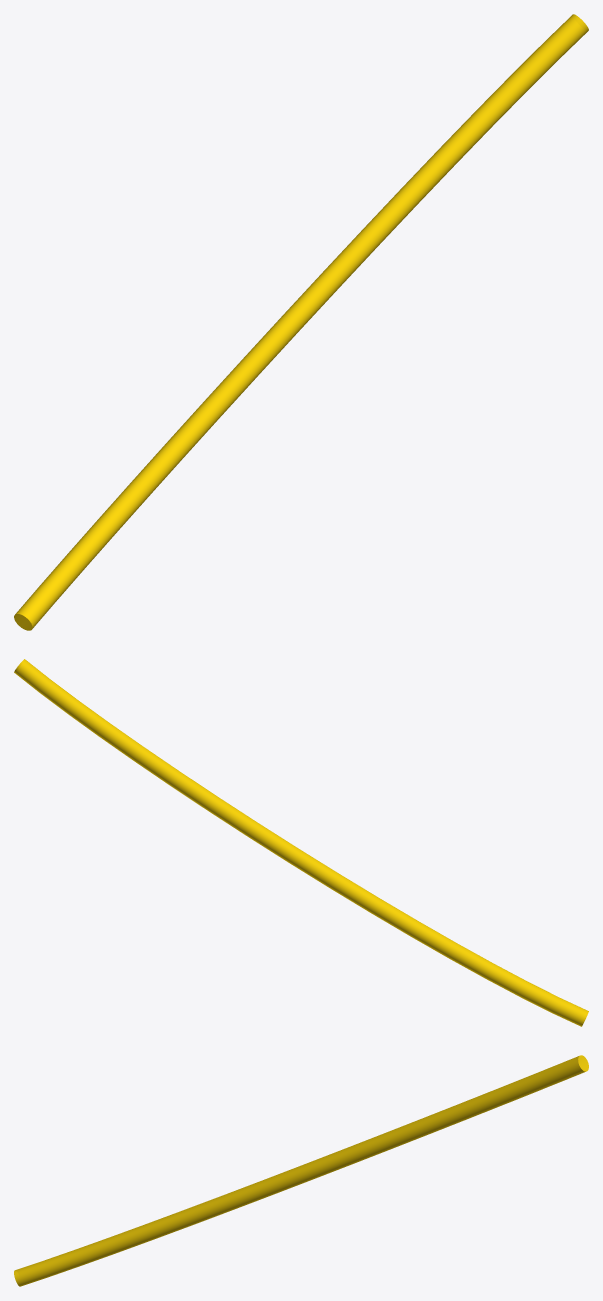
File: Event_421127236_track_53.fbx
3 views of the same model, one above another, from view 1: azimuth 30°, elevation 25°; view 2: azimuth 150°, elevation 25°; view 3: azimuth 330°, elevation 25° (orthographic). The views are drawn at different scales.
Parts seen in each view (by area): view 1: Model; view 2: Model; view 3: Model.
Part boxes in pixels (left/top/right/bottom): Model: left=14, top=14, right=588, bottom=630; Model: left=14, top=659, right=588, bottom=1026; Model: left=14, top=1055, right=588, bottom=1286.
Size of the model in its own units: 1.34 by 0.7577 by 0.3643.
